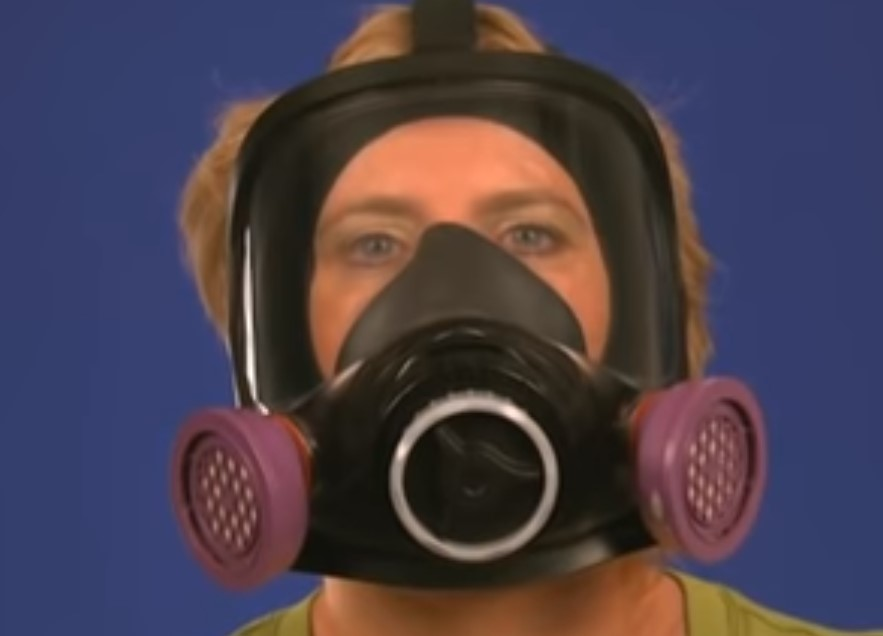face_with_mask: (182, 35, 768, 578)
